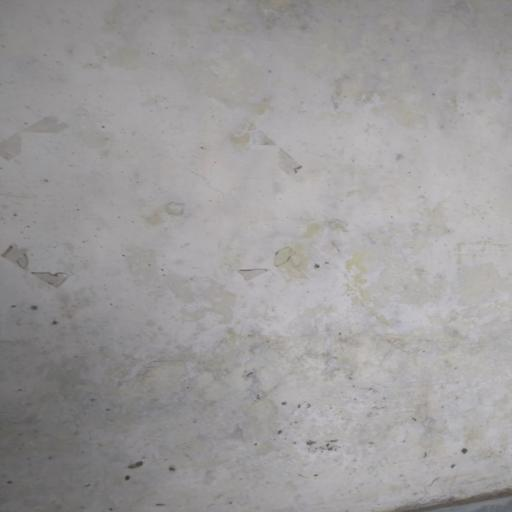stain: (164, 110, 511, 512)
